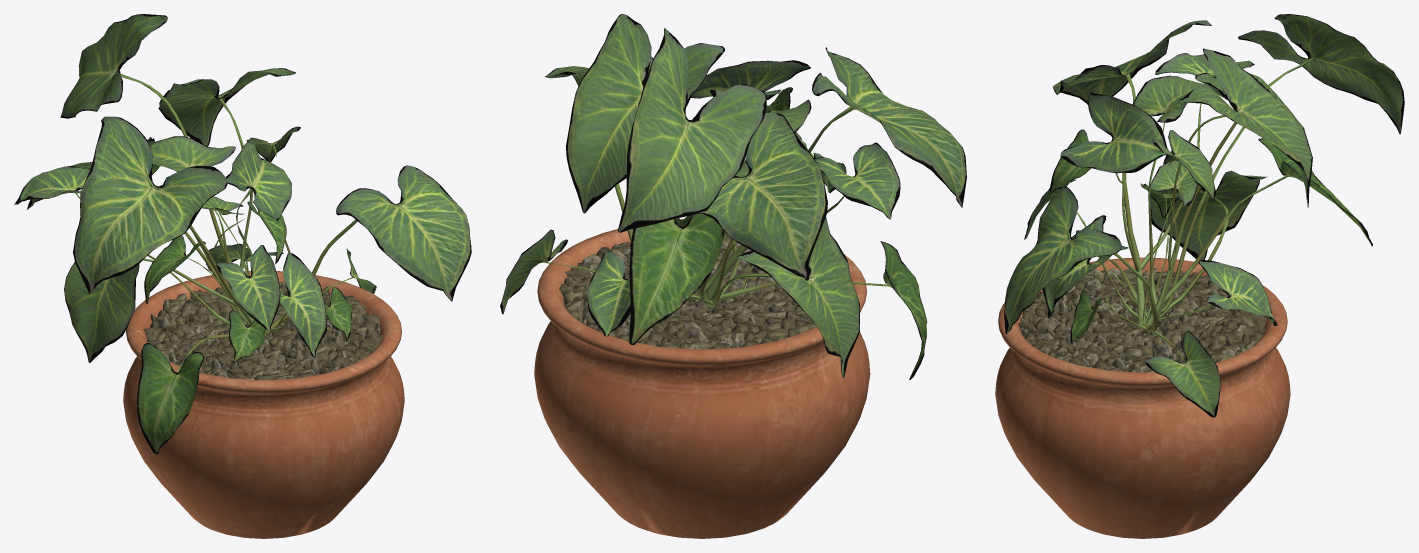
File: potted_plant_02.glb
3 views of the same model, side by side, from view 1: azimuth 30°, elevation 25°; view 2: azimuth 150°, elevation 25°; view 3: azimuth 270°, elevation 25° (orthographic). The views are drawn at different scales.
Parts seen in each view (by area): view 1: potted_plant_02_leaves, potted_plant_02_pot; view 2: potted_plant_02_leaves, potted_plant_02_pot; view 3: potted_plant_02_pot, potted_plant_02_leaves.
Boxes of the visible parts, box(x1,y1,x2,y2) form: potted_plant_02_leaves: box(14, 14, 471, 453); potted_plant_02_pot: box(123, 271, 404, 538); potted_plant_02_leaves: box(500, 14, 966, 379); potted_plant_02_pot: box(534, 219, 870, 538); potted_plant_02_pot: box(995, 257, 1290, 538); potted_plant_02_leaves: box(1004, 14, 1404, 417).
Size of the model in its own units: 0.7009 by 0.8412 by 0.6574.
Materials: 2 (2 with a texture image).
